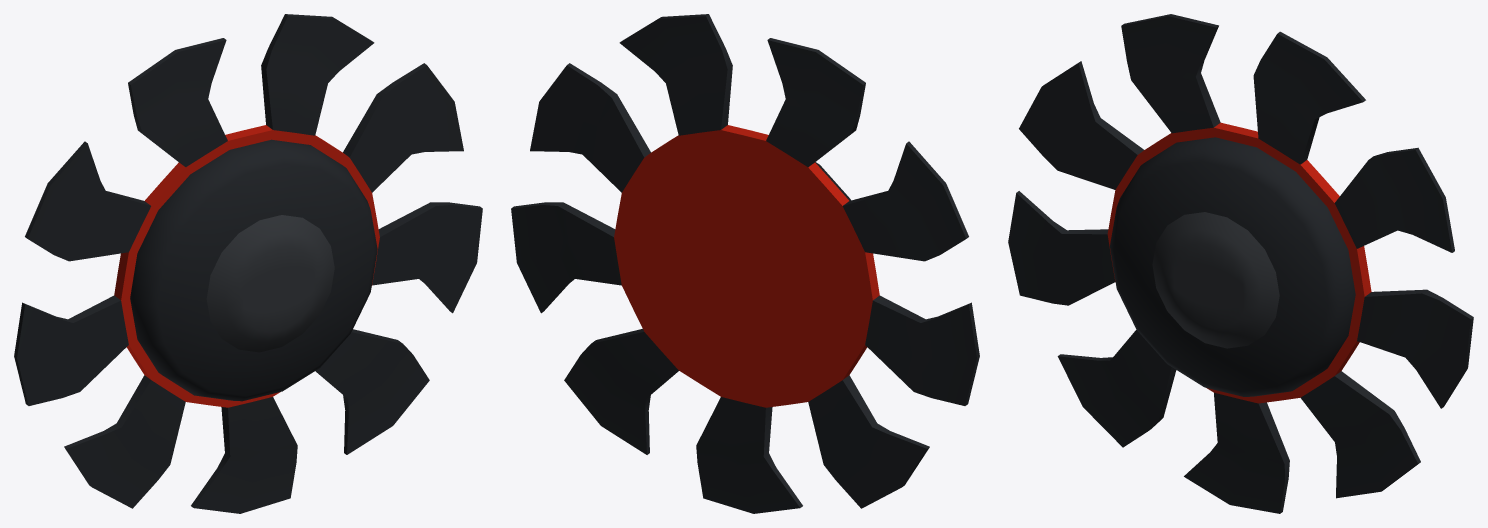
File: Fan.FBX
3 renders of one model, left to right at view 1: azimuth 30°, elevation 25°; view 2: azimuth 150°, elevation 25°; view 3: azimuth 330°, elevation 25°, orthographic.
Visible parts, largest first — view 1: Fann; view 2: Fann; view 3: Fann.
Boxes of the visible parts, bbox=[...] form: Fann: bbox=[14, 14, 482, 513]; Fann: bbox=[511, 14, 979, 513]; Fann: bbox=[1008, 14, 1473, 513].
Bounding box in the file's own units: 102 × 101 × 13.19.
